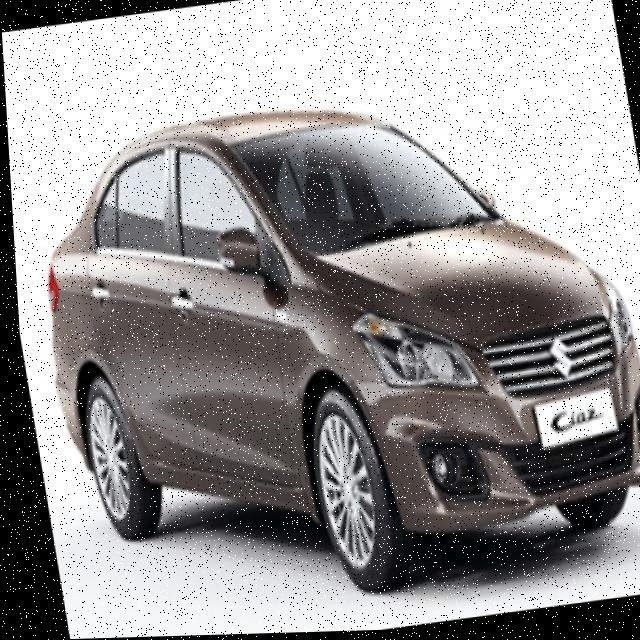license_plate: (521, 388, 610, 439)
